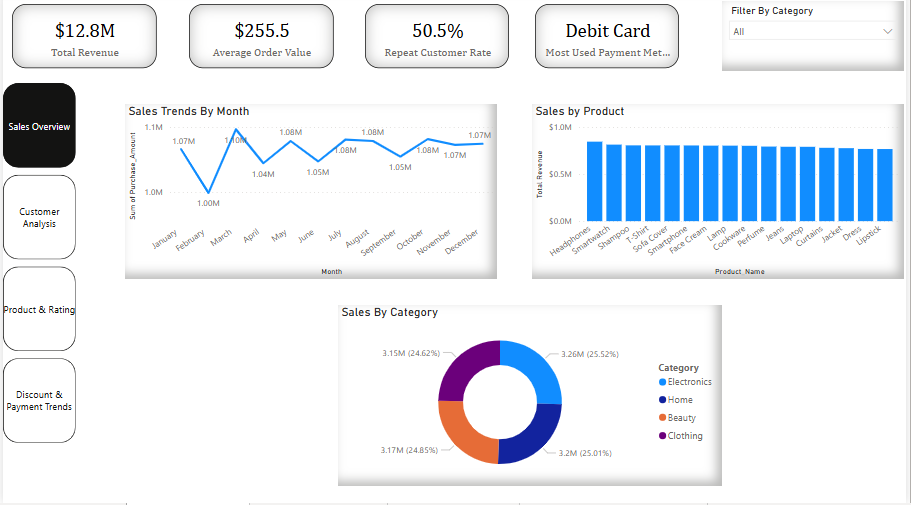

What the dashboard file says about the page in this screenshot:
{"tool":"powerbi","page":{"name":"Sales Overview","canvas":[1280,720],"ordinal":0},"visuals":[{"type":"card","fields":{"Values":["Measures (2).Total Revenue"]},"box":[13,13.1,205,90.7],"z":0},{"type":"card","fields":{"Values":["Measures (2).Average Order Value"]},"box":[263.5,13.1,205,90.7],"z":1000},{"type":"card","fields":{"Values":["Measures (2).Repeat Customer Rate"]},"box":[512.7,13.1,204.5,90.7],"z":2000},{"type":"lineChart","title":"Sales Trends By Month","fields":{"Category":["data.Purchase_Date.Variation.Date Hierarchy.Month"],"Y":["Sum(data.Purchase_Amount)"]},"box":[172.9,154.5,527.2,248],"z":3000},{"type":"clusteredColumnChart","title":"Sales by Product","fields":{"Category":["data.Product_Name"],"Y":["Measures (2).Total Revenue"]},"box":[749.8,154.5,527.2,248],"z":4000},{"type":"donutChart","title":"Sales By Category","fields":{"Category":["data.Category"],"Y":["Sum(data.Purchase_Amount)"]},"box":[474.8,439.4,544.3,256.5],"z":5000},{"type":"pageNavigator","box":[0,124.7,103.5,510.2],"z":6000},{"type":"card","fields":{"Values":["Measures (2).Most Used Payment Method"]},"box":[754.6,13.1,204.5,90.7],"z":7000},{"type":"slicer","fields":{"Values":["data.Category"]},"box":[1019.1,8.5,258,99.2],"z":8000}]}

Visuals, with their boxes on the page's 1280x720 design canvas (x1, y1, x2, y2). These are canvas units, not pixel positions in the 911x505 screenshot, which may show the page scaled, cropped or inside an application window:
card - Measures (2).Total Revenue: BBox(13, 13, 218, 104)
card - Measures (2).Average Order Value: BBox(264, 13, 468, 104)
card - Measures (2).Repeat Customer Rate: BBox(513, 13, 717, 104)
"Sales Trends By Month" lineChart: BBox(173, 154, 700, 402)
"Sales by Product" clusteredColumnChart: BBox(750, 154, 1277, 402)
"Sales By Category" donutChart: BBox(475, 439, 1019, 696)
pageNavigator: BBox(0, 125, 104, 635)
card - Measures (2).Most Used Payment Method: BBox(755, 13, 959, 104)
slicer - data.Category: BBox(1019, 8, 1277, 108)
